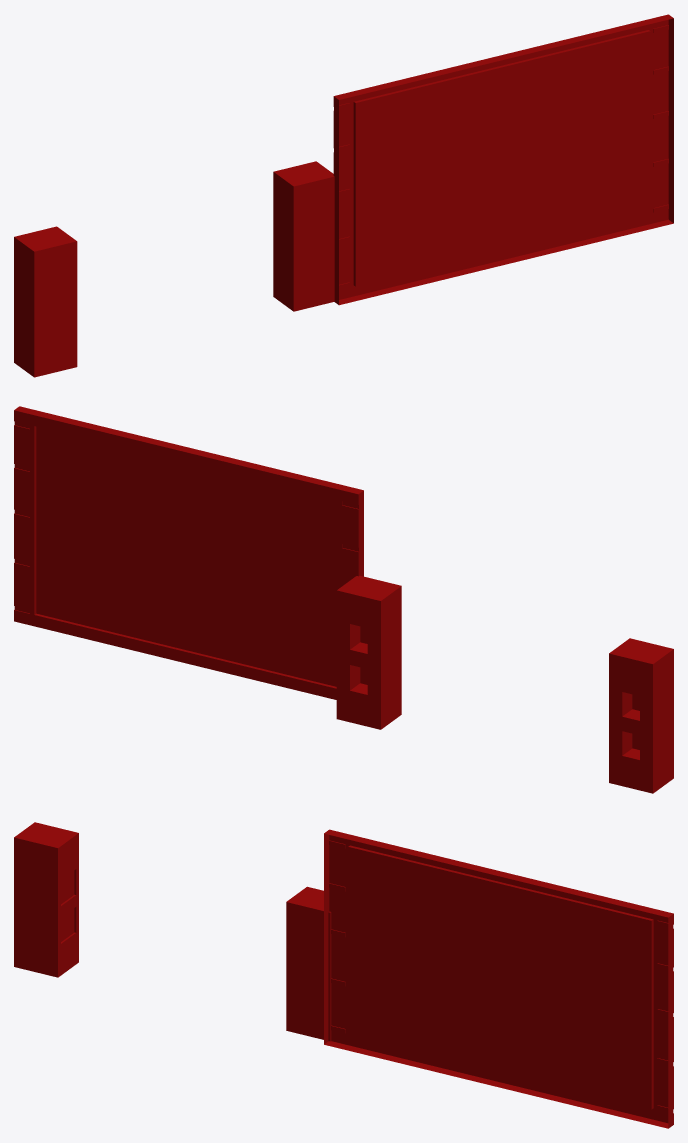
The model's file is Gallery_Stand.fbx.
3 views of the same model, one above another, from view 1: azimuth 30°, elevation 25°; view 2: azimuth 150°, elevation 25°; view 3: azimuth 330°, elevation 25° (orthographic). The views are drawn at different scales.
Visible parts, largest first — view 1: Gallery_Stand; view 2: Gallery_Stand; view 3: Gallery_Stand.
Part boxes in pixels (left/top/right/bottom): Gallery_Stand: left=14, top=14, right=673, bottom=377; Gallery_Stand: left=14, top=406, right=673, bottom=793; Gallery_Stand: left=14, top=822, right=673, bottom=1128.
Size of the model in its own units: 2230 by 686 by 149.
